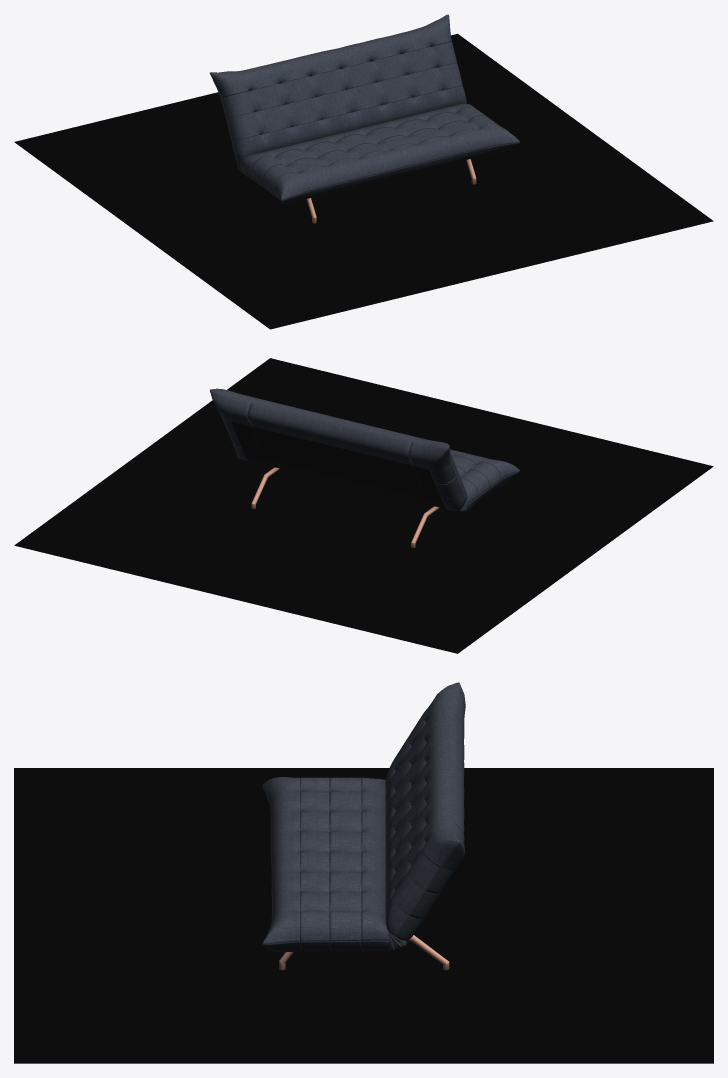
The picture shows the model from 3 angles, top to bottom: view 1: azimuth 30°, elevation 25°; view 2: azimuth 150°, elevation 25°; view 3: azimuth 270°, elevation 25°; orthographic projection. The views are drawn at different scales.
Parts seen in each view (by area): view 1: Plane001, FABRIC001; view 2: Plane001, FABRIC001, FABRIC_BLACK001, COPPER001; view 3: Plane001, FABRIC001.
Boxes of the visible parts, x1,y1,x2,y2 form: Plane001: (14,33,713,329); FABRIC001: (209,14,519,204); Plane001: (14,358,713,653); FABRIC001: (210,388,520,512); FABRIC_BLACK001: (231,421,463,513); COPPER001: (251,467,439,547); Plane001: (14,768,713,1063); FABRIC001: (262,682,465,952).
Bounding box in the file's own units: 334 × 81.25 × 334.
Materials: 5 (5 with a texture image).
